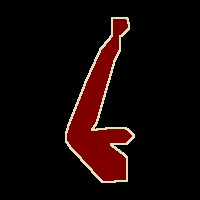tie: (66, 17, 134, 182)
